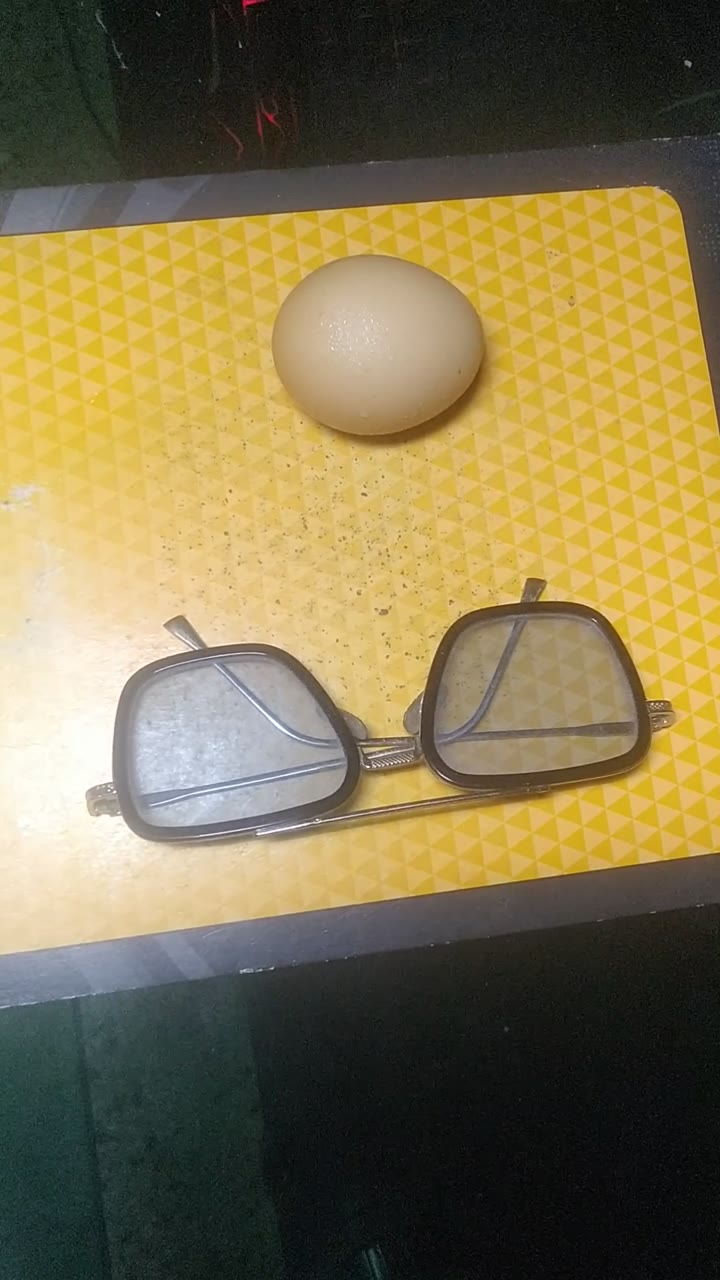egg: (257, 247, 508, 441)
sunglass: (86, 573, 691, 858)
